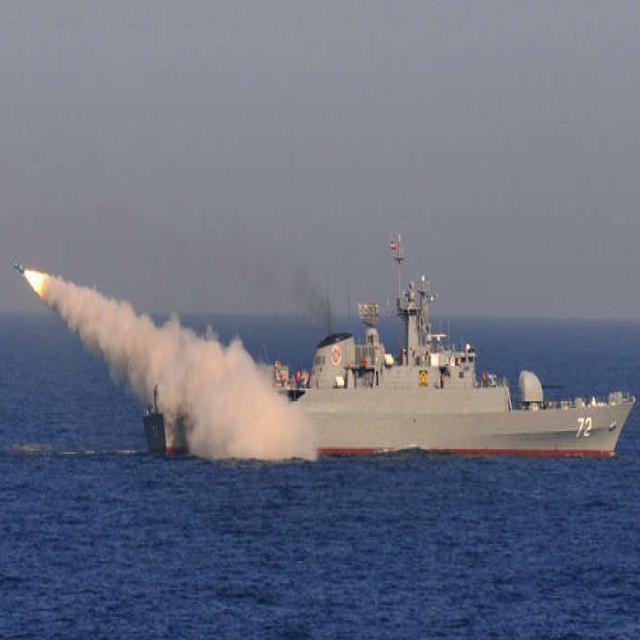navalvessels: (135, 258, 640, 469)
